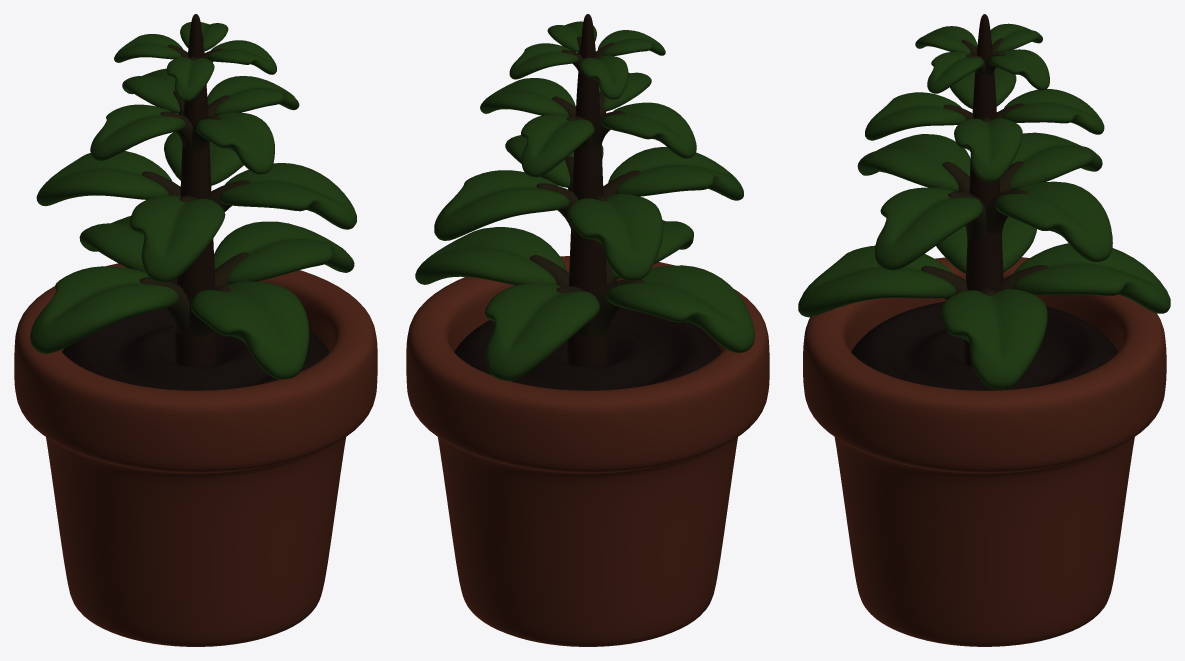
The model's file is Plant_Leafy_Grown_Pot.obj.
3 renders of one model, left to right at view 1: azimuth 30°, elevation 25°; view 2: azimuth 150°, elevation 25°; view 3: azimuth 270°, elevation 25°, orthographic.
Parts seen in each view (by area): view 1: Plant_Leafy_Grown_Pot_Body, Plant_Leafy_Grown_Pot_Soil, Plant_Leafy_Grown_Pot_Leaf02, Plant_Leafy_Grown_Pot_Leaf01, Plant_Leafy_Grown_Pot_Leaf04, Plant_Leafy_Grown_Pot_Leaf05, Plant_Leafy_Grown_Pot_Leaf08, Plant_Leafy_Grown_Pot_Stem, Plant_Leafy_Grown_Pot_Leaf06, Plant_Leafy_Grown_Pot_Leaf10, Plant_Leafy_Grown_Pot_Leaf09, Plant_Leafy_Grown_Pot_Leaf12 (+7 smaller); view 2: Plant_Leafy_Grown_Pot_Body, Plant_Leafy_Grown_Pot_Soil, Plant_Leafy_Grown_Pot_Leaf02, Plant_Leafy_Grown_Pot_Leaf03, Plant_Leafy_Grown_Pot_Leaf04, Plant_Leafy_Grown_Pot_Stem, Plant_Leafy_Grown_Pot_Leaf07, Plant_Leafy_Grown_Pot_Leaf06, Plant_Leafy_Grown_Pot_Leaf05, Plant_Leafy_Grown_Pot_Leaf10, Plant_Leafy_Grown_Pot_Leaf11, Plant_Leafy_Grown_Pot_Leaf12 (+7 smaller); view 3: Plant_Leafy_Grown_Pot_Body, Plant_Leafy_Grown_Pot_Soil, Plant_Leafy_Grown_Pot_Leaf04, Plant_Leafy_Grown_Pot_Leaf03, Plant_Leafy_Grown_Pot_Leaf01, Plant_Leafy_Grown_Pot_Leaf08, Plant_Leafy_Grown_Pot_Leaf07, Plant_Leafy_Grown_Pot_Leaf05, Plant_Leafy_Grown_Pot_Stem, Plant_Leafy_Grown_Pot_Leaf06, Plant_Leafy_Grown_Pot_Leaf12, Plant_Leafy_Grown_Pot_Leaf09 (+7 smaller).
Boxes of the visible parts, x1,y1,x2,y2 form: Plant_Leafy_Grown_Pot_Body: (14,263,377,646); Plant_Leafy_Grown_Pot_Soil: (62,308,329,390); Plant_Leafy_Grown_Pot_Leaf02: (30,266,189,353); Plant_Leafy_Grown_Pot_Leaf01: (189,281,309,379); Plant_Leafy_Grown_Pot_Leaf04: (214,221,354,286); Plant_Leafy_Grown_Pot_Leaf05: (130,195,225,282); Plant_Leafy_Grown_Pot_Leaf08: (206,163,356,249); Plant_Leafy_Grown_Pot_Stem: (175,14,216,366); Plant_Leafy_Grown_Pot_Leaf06: (36,151,180,206); Plant_Leafy_Grown_Pot_Leaf10: (90,104,192,160); Plant_Leafy_Grown_Pot_Leaf09: (191,112,274,174); Plant_Leafy_Grown_Pot_Leaf12: (207,76,299,116); Plant_Leafy_Grown_Pot_Body: (406,256,769,646); Plant_Leafy_Grown_Pot_Soil: (454,307,721,390); Plant_Leafy_Grown_Pot_Leaf02: (594,265,754,352); Plant_Leafy_Grown_Pot_Leaf03: (485,283,599,380); Plant_Leafy_Grown_Pot_Leaf04: (415,227,569,286); Plant_Leafy_Grown_Pot_Stem: (567,14,608,366); Plant_Leafy_Grown_Pot_Leaf07: (434,170,581,243); Plant_Leafy_Grown_Pot_Leaf06: (567,194,663,280); Plant_Leafy_Grown_Pot_Leaf05: (603,147,743,200); Plant_Leafy_Grown_Pot_Leaf10: (592,102,696,158); Plant_Leafy_Grown_Pot_Leaf11: (521,114,594,177); Plant_Leafy_Grown_Pot_Leaf12: (480,78,575,116); Plant_Leafy_Grown_Pot_Body: (803,257,1166,646); Plant_Leafy_Grown_Pot_Soil: (851,301,1118,390); Plant_Leafy_Grown_Pot_Leaf04: (940,288,1047,389); Plant_Leafy_Grown_Pot_Leaf03: (1002,243,1170,313); Plant_Leafy_Grown_Pot_Leaf01: (798,245,967,317); Plant_Leafy_Grown_Pot_Leaf08: (875,187,987,270); Plant_Leafy_Grown_Pot_Leaf07: (986,181,1112,262); Plant_Leafy_Grown_Pot_Leaf05: (857,134,970,193); Plant_Leafy_Grown_Pot_Stem: (964,14,1003,365); Plant_Leafy_Grown_Pot_Leaf06: (999,132,1102,192); Plant_Leafy_Grown_Pot_Leaf12: (954,117,1022,182); Plant_Leafy_Grown_Pot_Leaf09: (865,92,973,140).
Bounding box in the file's own units: 1.34 × 2.32 × 1.34.
